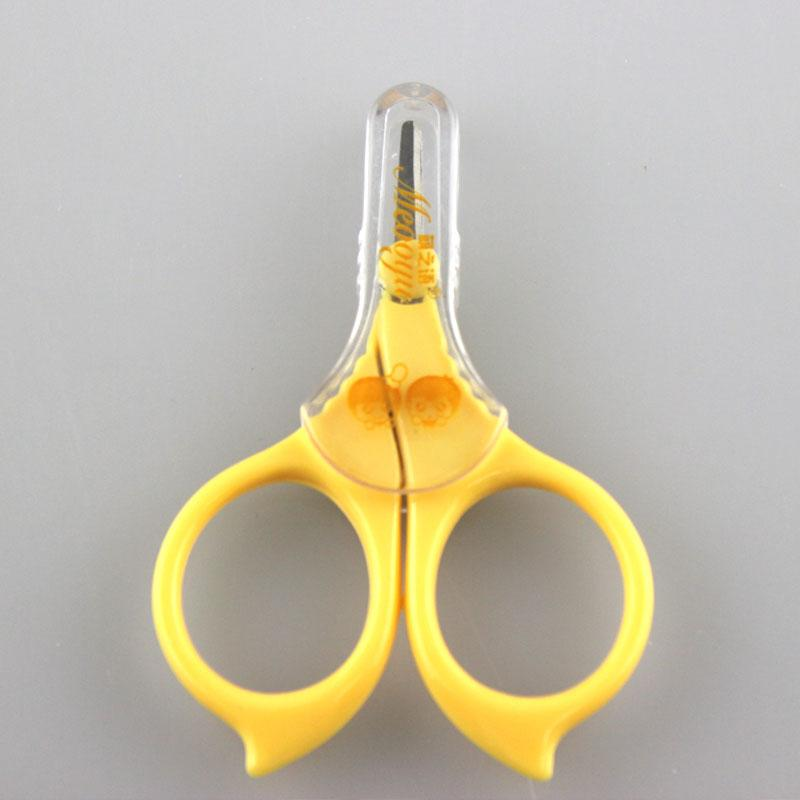scissor: (133, 44, 655, 759)
